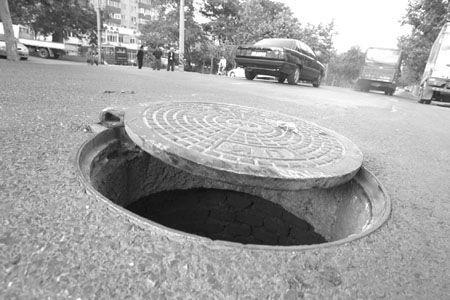wellcover: (84, 81, 398, 279)
